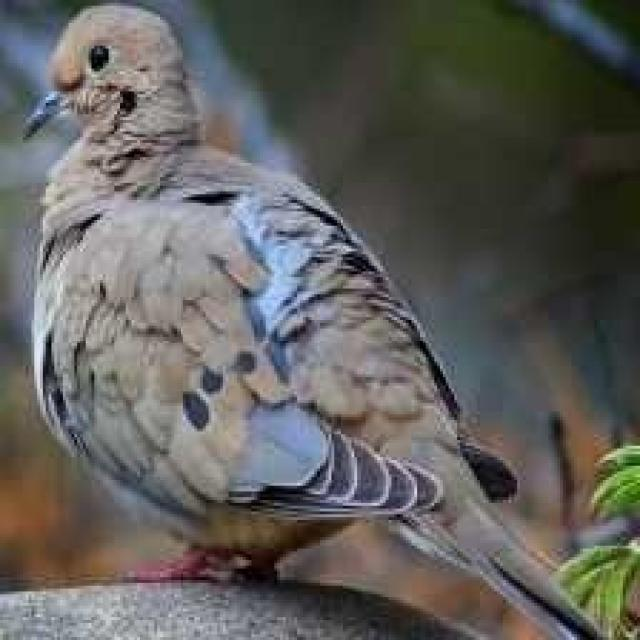bird: (13, 2, 607, 640)
